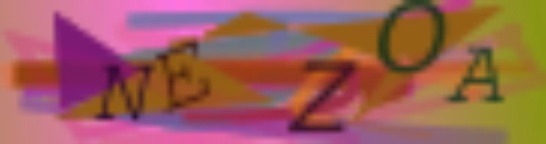A: (444, 43, 510, 108)
E: (154, 36, 214, 117)
N: (92, 62, 156, 123)
O: (376, 1, 449, 78)
Z: (285, 56, 360, 137)
